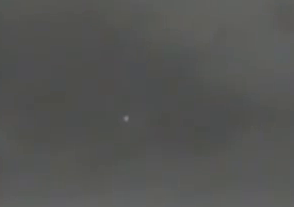Target: (125, 116, 128, 120)
